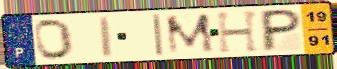H: (215, 9, 262, 55)
I: (97, 15, 115, 59), (150, 13, 166, 58)
M: (163, 12, 217, 56)
O: (33, 17, 76, 61)
P: (260, 8, 304, 53)
